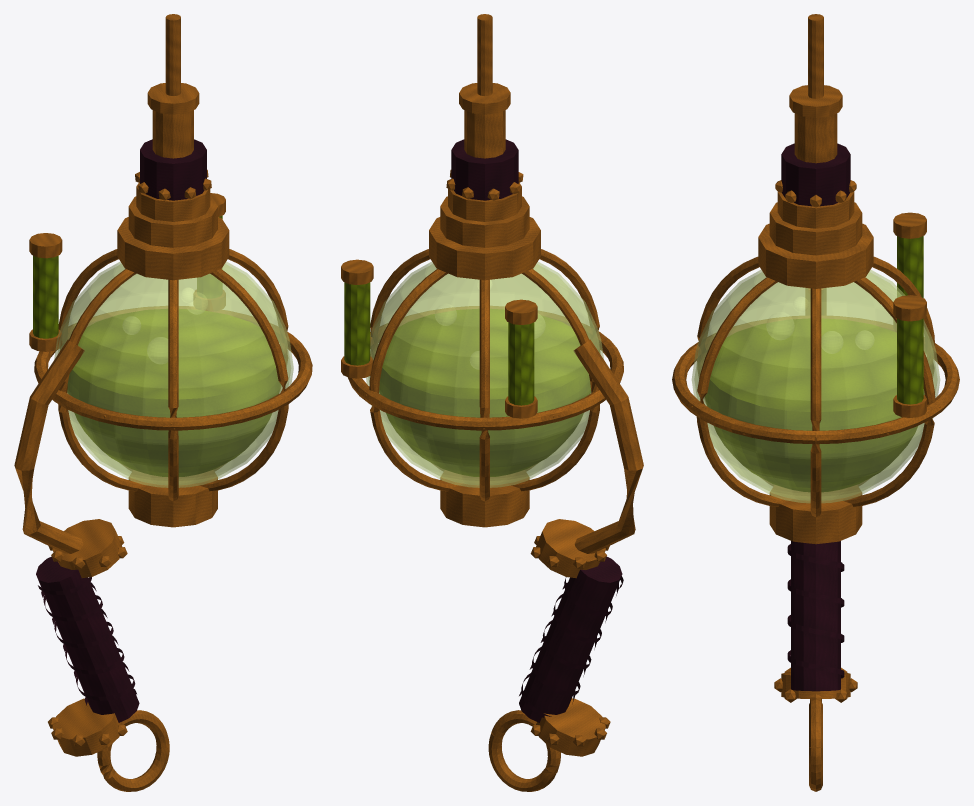
File: alchemical-crossbow.glb
The picture shows the model from 3 angles, left to right: view 1: azimuth 30°, elevation 25°; view 2: azimuth 150°, elevation 25°; view 3: azimuth 270°, elevation 25°; orthographic projection. The views are drawn at different scales.
Parts seen in each view (by area): view 1: Thin_glass_reagent_chamber, Distinct_green_reagent_liquid, Burgundy_grip, Equatorial_frame, Pressure_return_tube, Pressure_barrel.001, Pressure_barrel, Dark_barrel_collar, Gold_chamber_rib_5, Pressure_barrel.002, Gold_chamber_rib_3, Engraved_gold_ferrule (+13 smaller); view 2: Thin_glass_reagent_chamber, Distinct_green_reagent_liquid, Burgundy_grip, Equatorial_frame, Pressure_return_tube, Pressure_barrel.001, Pressure_barrel, Dark_barrel_collar, Gold_chamber_rib_1, Pressure_barrel.002, Gold_chamber_rib_3, Engraved_gold_ferrule (+14 smaller); view 3: Thin_glass_reagent_chamber, Distinct_green_reagent_liquid, Burgundy_grip, Equatorial_frame, Pressure_barrel.001, Pressure_barrel, Dark_barrel_collar, Gold_chamber_rib_5, Pressure_barrel.002, Gold_chamber_rib_0, Gold_chamber_rib_1, Side_ampoule.001 (+14 smaller).
Boxes of the visible parts, x1,y1,x2,y2 form: Thin_glass_reagent_chamber: (54, 261, 293, 487); Distinct_green_reagent_liquid: (67, 308, 280, 476); Burgundy_grip: (36, 556, 139, 722); Equatorial_frame: (34, 306, 312, 430); Pressure_return_tube: (14, 339, 84, 553); Pressure_barrel.001: (117, 217, 229, 280); Pressure_barrel: (128, 470, 217, 527); Dark_barrel_collar: (140, 139, 206, 200); Gold_chamber_rib_5: (195, 269, 288, 491); Pressure_barrel.002: (128, 196, 217, 247); Gold_chamber_rib_3: (58, 269, 151, 491); Engraved_gold_ferrule: (52, 698, 122, 756); Thin_glass_reagent_chamber: (366, 261, 603, 487); Distinct_green_reagent_liquid: (379, 308, 590, 476); Burgundy_grip: (519, 557, 622, 722); Equatorial_frame: (348, 306, 623, 430); Pressure_return_tube: (573, 339, 643, 553); Pressure_barrel.001: (429, 217, 540, 280); Pressure_barrel: (440, 470, 529, 527); Dark_barrel_collar: (451, 139, 518, 200); Gold_chamber_rib_1: (369, 269, 462, 491); Pressure_barrel.002: (440, 196, 529, 247); Gold_chamber_rib_3: (507, 269, 599, 491); Engraved_gold_ferrule: (536, 698, 605, 756); Thin_glass_reagent_chamber: (691, 270, 940, 503); Distinct_green_reagent_liquid: (705, 318, 924, 492); Burgundy_grip: (791, 541, 840, 691); Equatorial_frame: (672, 315, 959, 444); Pressure_barrel.001: (758, 223, 873, 288); Pressure_barrel: (769, 485, 862, 544); Dark_barrel_collar: (781, 143, 850, 206); Gold_chamber_rib_5: (696, 277, 792, 506); Pressure_barrel.002: (769, 202, 862, 255); Gold_chamber_rib_0: (810, 288, 821, 516); Gold_chamber_rib_1: (839, 277, 935, 506); Side_ampoule.001: (897, 318, 923, 404).
Size of the model in its own units: 0.374 by 0.9806 by 0.324.
Materials: 4 (3 with a texture image).
